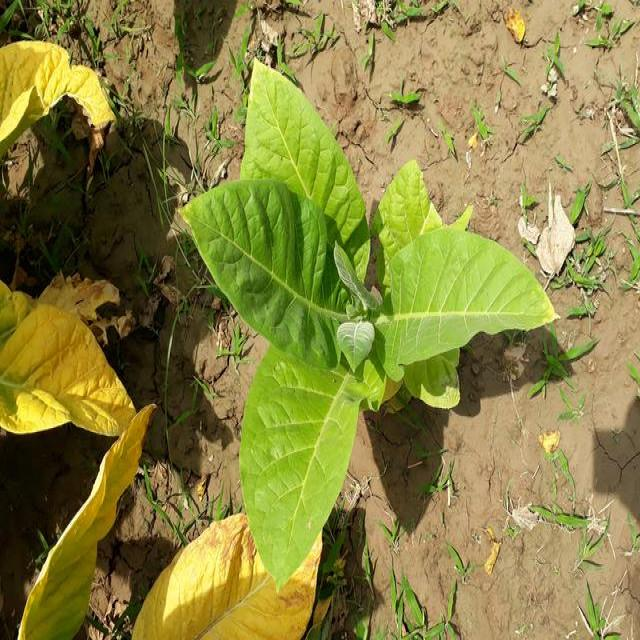crop: (190, 58, 552, 566), (15, 366, 148, 640), (0, 260, 142, 445), (146, 497, 319, 640), (0, 37, 118, 151)
